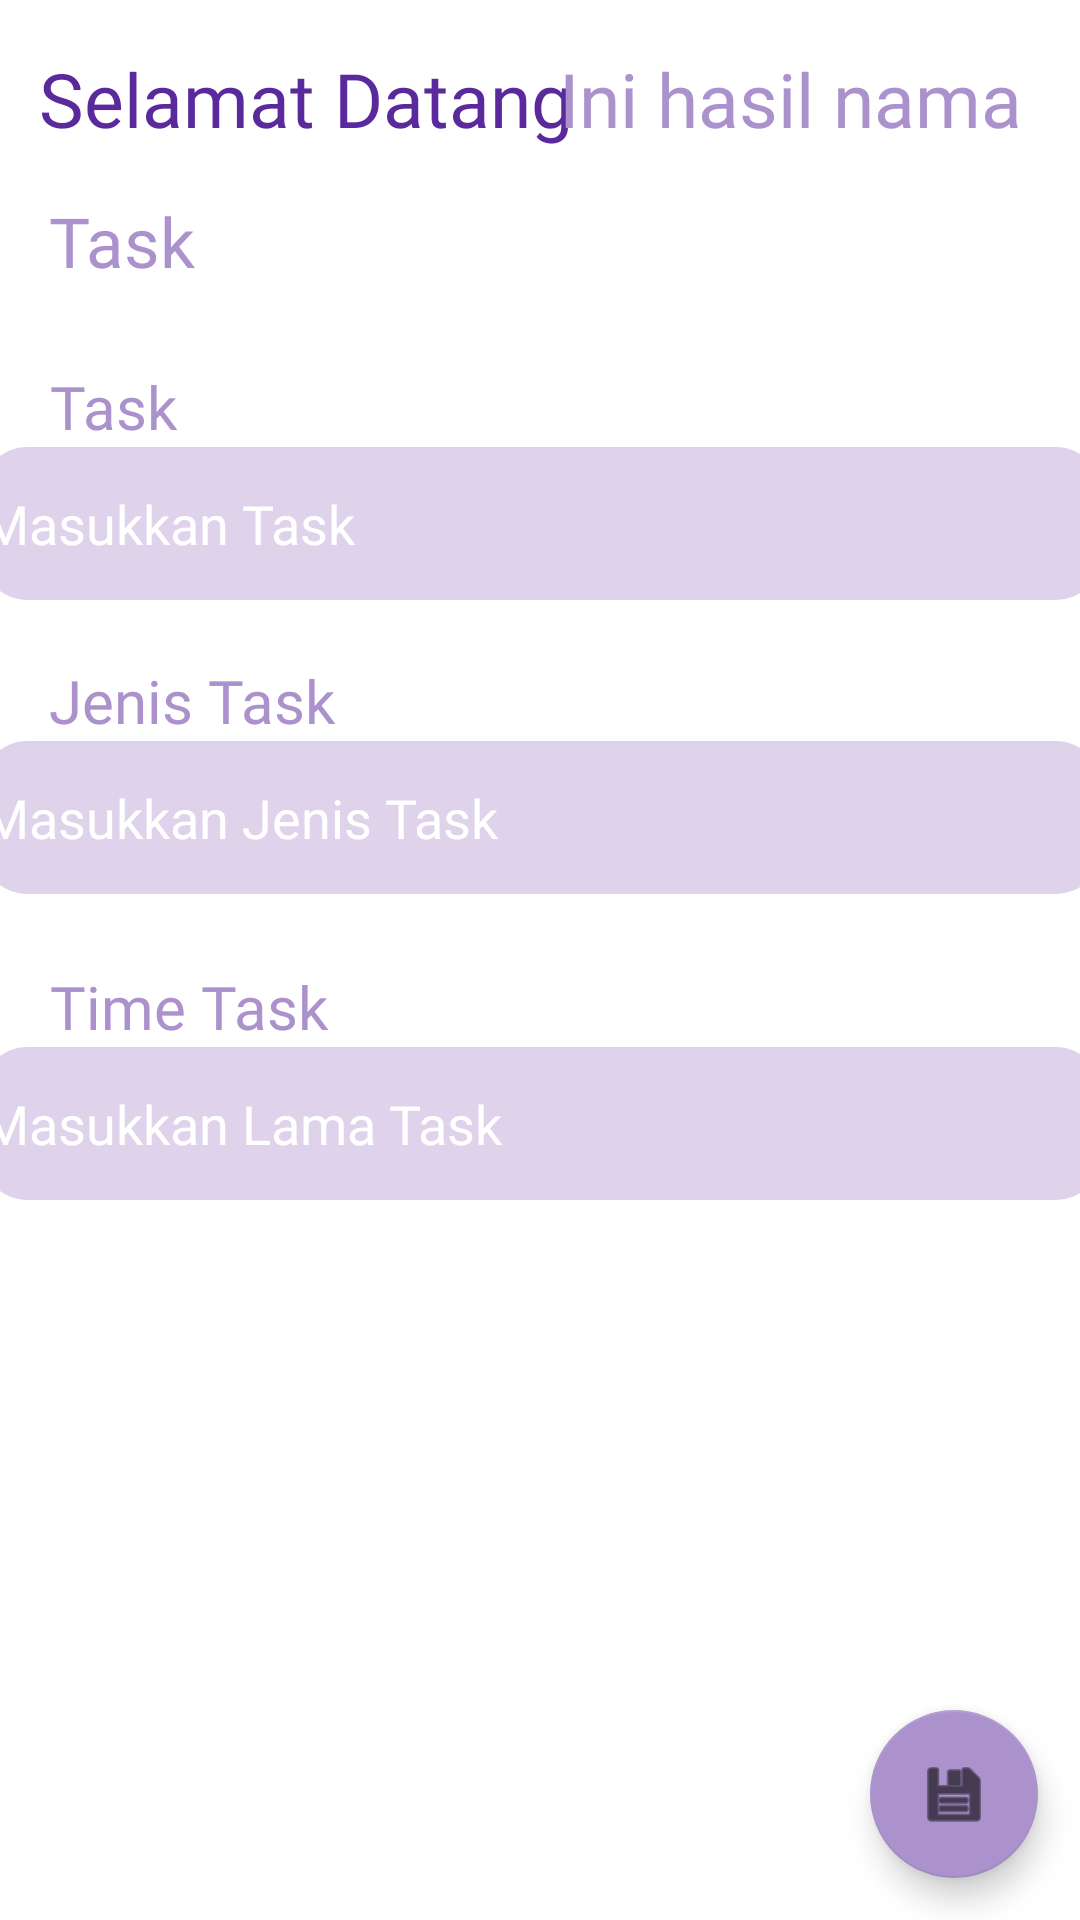

Locate icon controls on the screen. Image size 1080 × 1920, boxes as bbox=[x1, y1, x2, y2].
save: bbox=[870, 1710, 1038, 1878]
